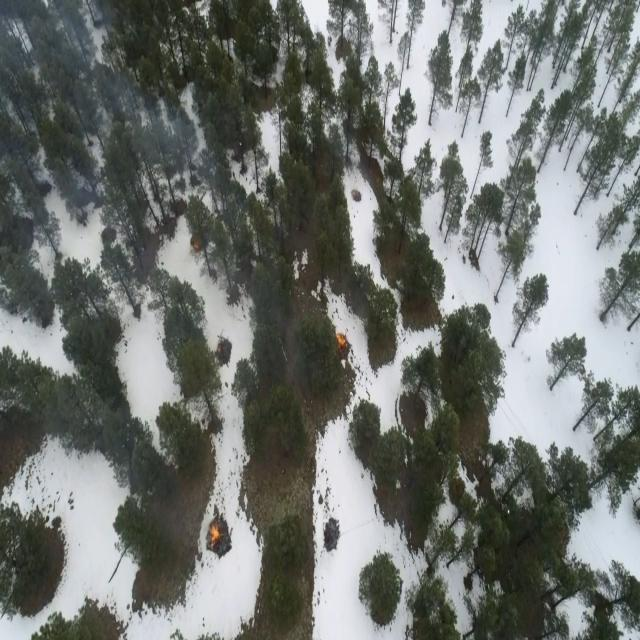Fire: (336, 326, 354, 362), (208, 519, 226, 553)
